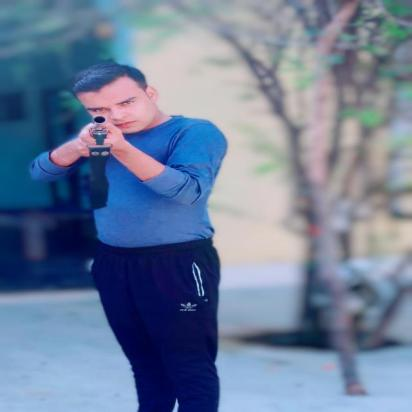Gun: (86, 115, 112, 152)
